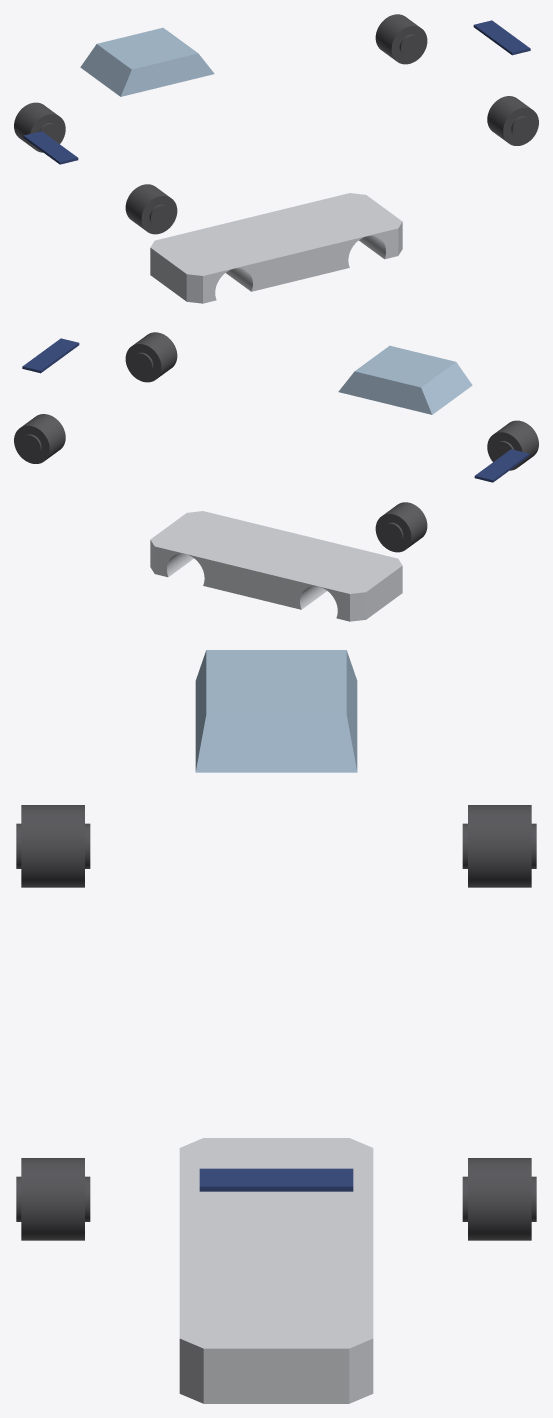
The model's file is exploded.glb.
3 renders of one model, top to bottom at view 1: azimuth 30°, elevation 25°; view 2: azimuth 150°, elevation 25°; view 3: azimuth 270°, elevation 25°, orthographic. The views are drawn at different scales.
Visible parts, largest first — view 1: chassis, cabin, wheel_rr, wheel_fl, wheel_fr, wheel_rl, solar_hood, solar_deck; view 2: chassis, cabin, wheel_rl, wheel_fr, wheel_fl, wheel_rr, solar_hood, solar_deck; view 3: chassis, cabin, wheel_fl, wheel_fr, wheel_rl, wheel_rr, solar_hood.
Part boxes in pixels (x1,y1,x2,y2): chassis: (150,193,402,303); cabin: (80,27,214,96); wheel_rr: (125,184,177,234); wheel_fl: (375,14,427,64); wheel_fr: (487,96,538,145); wheel_rl: (14,102,65,152); solar_hood: (473,20,530,55); solar_deck: (23,131,78,164); chassis: (150,511,402,621); cabin: (338,345,472,414); wheel_rl: (375,502,427,552); wheel_fr: (125,332,177,382); wheel_fl: (14,414,65,463); wheel_rr: (487,420,538,470); solar_hood: (22,338,79,373); solar_deck: (474,449,529,482); chassis: (179,1138,373,1403); cabin: (195,650,357,772); wheel_fl: (462,1158,536,1240); wheel_fr: (16,1158,90,1240); wheel_rl: (462,805,536,887); wheel_rr: (16,805,90,887); solar_hood: (199,1168,353,1191).
Size of the model in its own units: 10.88 by 5.42 by 5.22.
